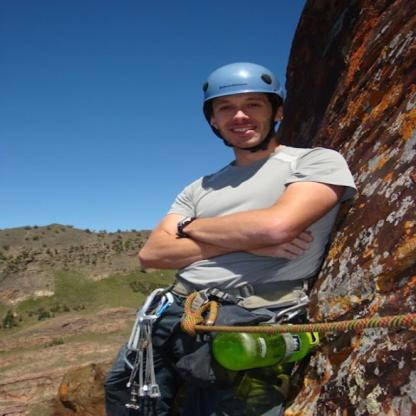Helmet: (198, 50, 298, 162)
